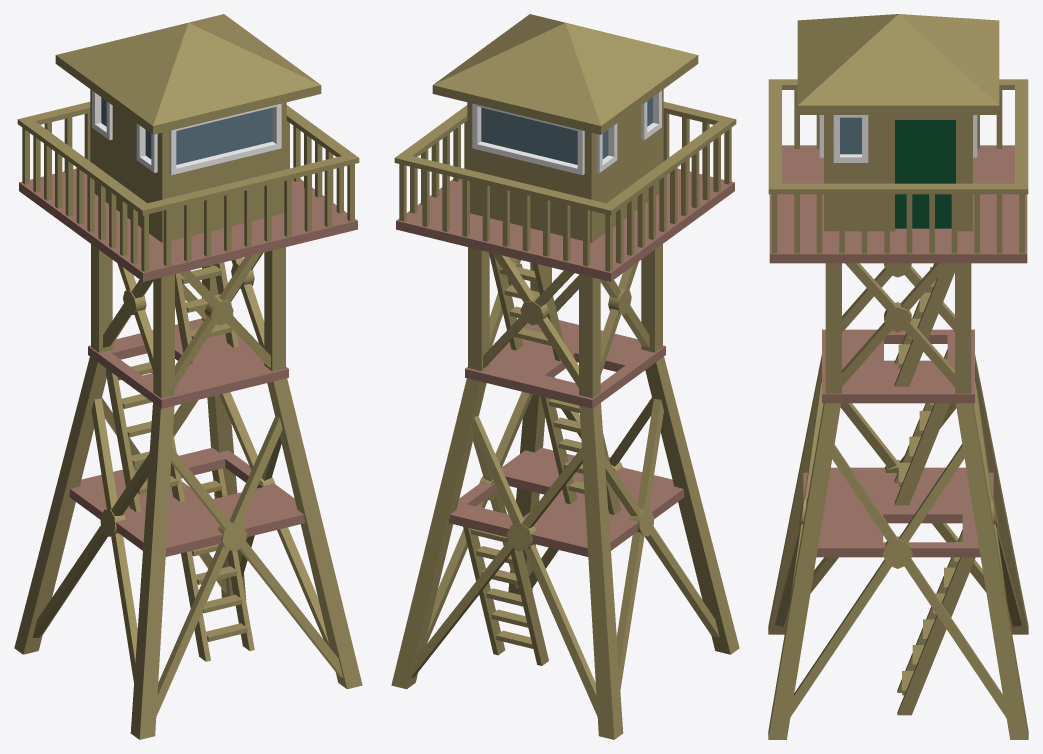
The model's file is Tower_003.glb.
3 views of the same model, side by side, from view 1: azimuth 30°, elevation 25°; view 2: azimuth 150°, elevation 25°; view 3: azimuth 270°, elevation 25° (orthographic). The views are drawn at different scales.
Visible parts, largest first — view 1: Tower_003; view 2: Tower_003; view 3: Tower_003.
Boxes of the visible parts, x1,y1,x2,y2 form: Tower_003: (14,14,362,739); Tower_003: (391,14,739,739); Tower_003: (768,14,1028,739).
Size of the model in its own units: 4.47 by 12.33 by 4.35.
2 materials, 2 textured.
